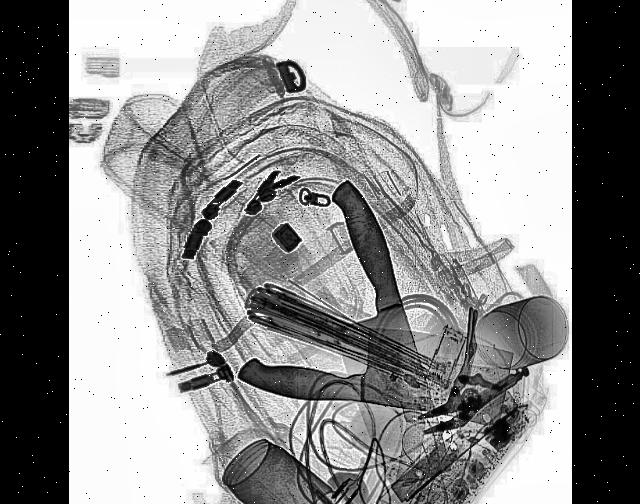Knife: (290, 170, 459, 504), (236, 301, 512, 435)
